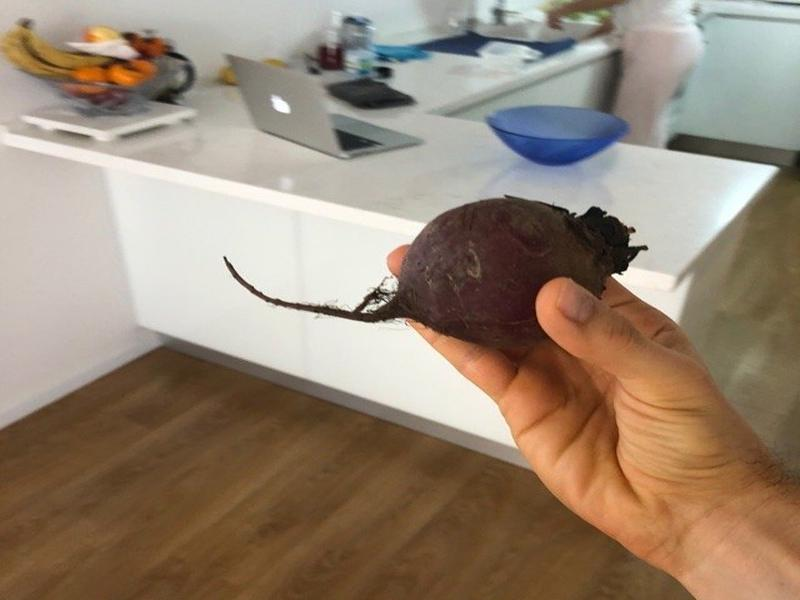Beet: (223, 198, 643, 344)
